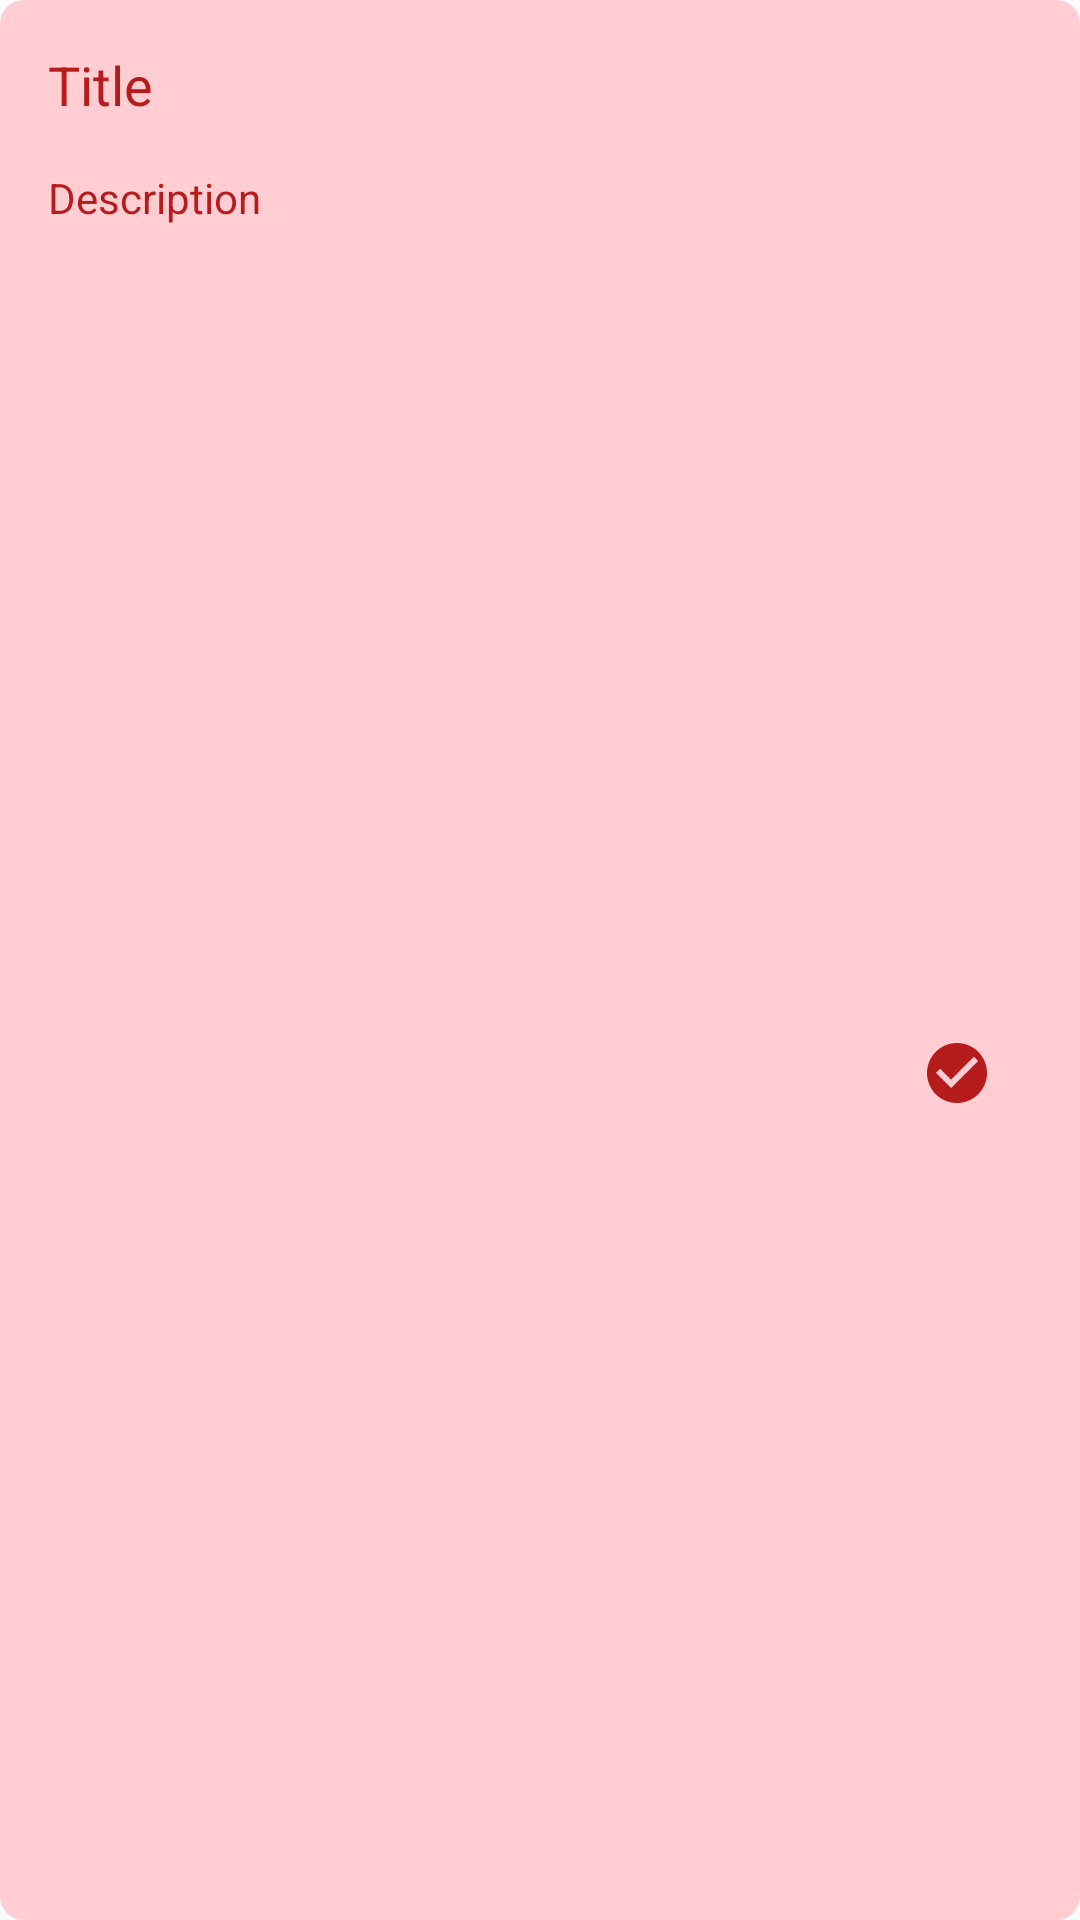

Icon bounding boxes for this 1080 × 1920 phone screenshot, format {"left": x1, "top": y1, "right": x2, "bottom": y2}:
check: {"left": 927, "top": 1043, "right": 987, "bottom": 1103}
